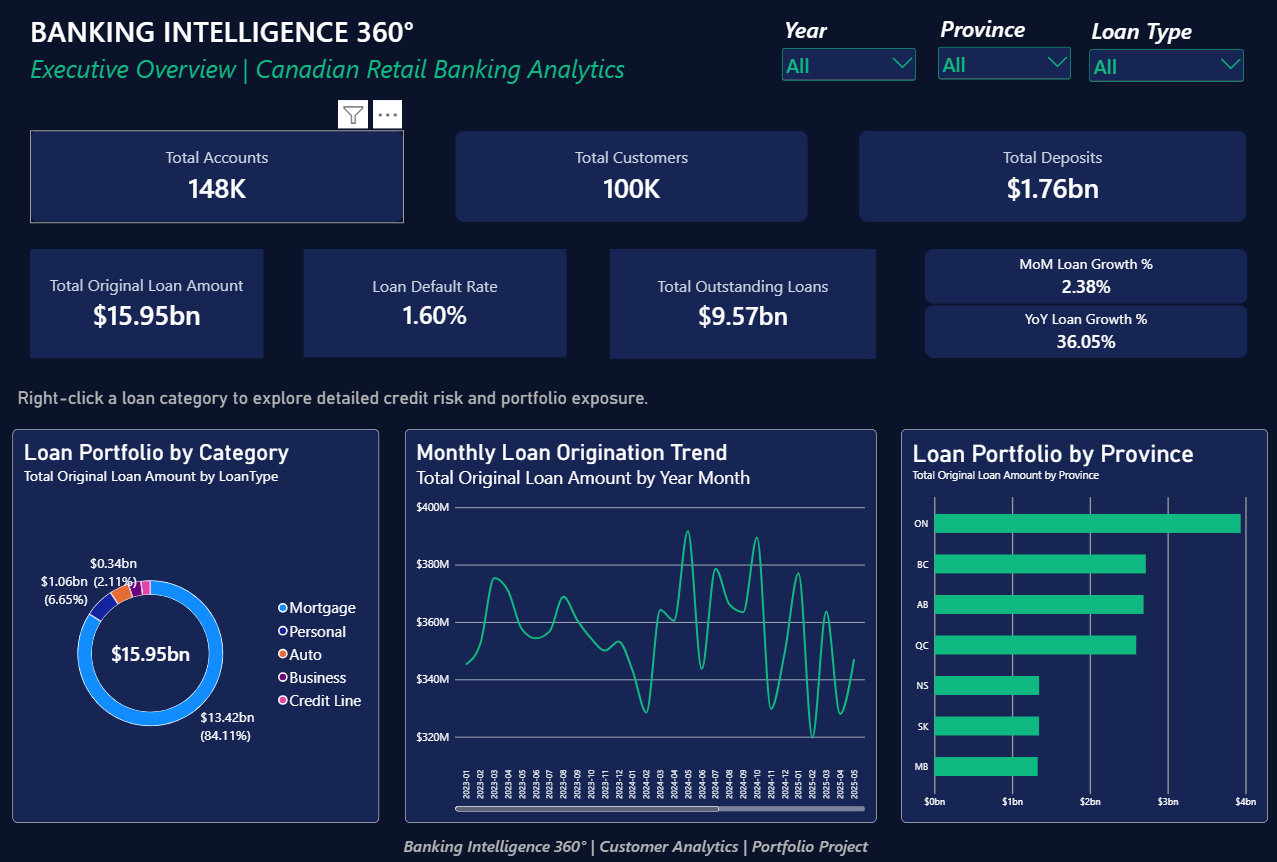

This screenshot's page, from the dashboard's own definition file:
{"tool":"powerbi","page":{"name":"Executive Banking Overview","canvas":[1920,1300],"ordinal":0},"visuals":[{"type":"cardVisual","fields":{"Data":["_Measures (2).Total Customers"]},"box":[683.7,197.4,531,138.6],"z":0},{"type":"cardVisual","fields":{"Data":["_Measures (2).Total Deposits"]},"box":[1289.9,197.4,582.7,138.6],"z":1000},{"type":"cardVisual","fields":{"Data":["_Measures (2).Total Accounts"]},"box":[44.6,197.4,561.5,138.6],"z":2000},{"type":"cardVisual","fields":{"Data":["_Measures (2).Total Original Loan Amount"]},"box":[44.6,375.9,350.1,164.5],"z":3000},{"type":"textbox","title":"BANKING INTELLIGENCE 360°","box":[45.4,18.7,1054.5,178.9],"z":4000},{"type":"donutChart","title":"Loan Portfolio by Category","fields":{"Category":["Loans.LoanType"],"Y":["_Measures (2).Total Original Loan Amount"]},"box":[19.4,644.7,550.2,591.4],"z":5000},{"type":"cardVisual","fields":{"Data":["_Measures (2).Total Outstanding Loans"]},"box":[916.3,375.9,399.4,164.5],"z":6000},{"type":"cardVisual","fields":{"Data":["_Measures (2).Loan Default Rate"]},"box":[455.8,375.9,394.7,162.1],"z":7000},{"type":"clusteredBarChart","title":"Loan Portfolio by Province","fields":{"Category":["Branches.Province"],"Y":["_Measures (2).Total Original Loan Amount"]},"box":[1352.4,644.7,550.2,591.4],"z":8000},{"type":"slicer","fields":{"Values":["Branches.Province"]},"box":[1402.7,21.1,209.1,112.8],"z":9000},{"type":"slicer","fields":{"Values":["Loans.LoanType"]},"box":[1630.6,23.5,242,110.4],"z":10000},{"type":"lineChart","title":"Monthly Loan Origination Trend","fields":{"Category":["DateTable.Year Month"],"Y":["_Measures (2).Total Original Loan Amount"]},"box":[608.3,644.7,707.7,591.4],"z":11000},{"type":"slicer","title":"Year","fields":{"Values":["DateTable.Year"]},"box":[1168.2,21.8,210.9,109.1],"z":12000},{"type":"cardVisual","fields":{"Data":["_Measures (2).MoM Loan Growth %"]},"box":[1388.6,375.9,484,82.2],"z":13000},{"type":"cardVisual","fields":{"Data":["_Measures (2).YoY Loan Growth %"]},"box":[1388.6,460.5,484,79.9],"z":14000},{"type":"textbox","title":"Banking Intelligence 360° | Customer Analytics | Portfolio Project","box":[514.7,1255.2,880.2,44.8],"z":14001},{"type":"textbox","title":"Right-click a loan category to explore detailed credit risk and portfolio exposure.","box":[26.7,584.1,1008.2,94.5],"z":14002}]}

Visuals, with their boxes in screenshot pixels (x1, y1, x2, y2), scaled from the page's 1920x1300 canvas onto the 1277x862 screenshot:
cardVisual - _Measures (2).Total Customers: pyautogui.locateOnScreen(455, 131, 808, 223)
cardVisual - _Measures (2).Total Deposits: pyautogui.locateOnScreen(858, 131, 1245, 223)
cardVisual - _Measures (2).Total Accounts: pyautogui.locateOnScreen(30, 131, 403, 223)
cardVisual - _Measures (2).Total Original Loan Amount: pyautogui.locateOnScreen(30, 249, 263, 358)
"BANKING INTELLIGENCE 360°" textbox: pyautogui.locateOnScreen(30, 12, 732, 131)
"Loan Portfolio by Category" donutChart: pyautogui.locateOnScreen(13, 427, 379, 820)
cardVisual - _Measures (2).Total Outstanding Loans: pyautogui.locateOnScreen(609, 249, 875, 358)
cardVisual - _Measures (2).Loan Default Rate: pyautogui.locateOnScreen(303, 249, 566, 357)
"Loan Portfolio by Province" clusteredBarChart: pyautogui.locateOnScreen(899, 427, 1265, 820)
slicer - Branches.Province: pyautogui.locateOnScreen(933, 14, 1072, 89)
slicer - Loans.LoanType: pyautogui.locateOnScreen(1085, 16, 1245, 89)
"Monthly Loan Origination Trend" lineChart: pyautogui.locateOnScreen(405, 427, 875, 820)
"Year" slicer: pyautogui.locateOnScreen(777, 14, 917, 87)
cardVisual - _Measures (2).MoM Loan Growth %: pyautogui.locateOnScreen(924, 249, 1245, 304)
cardVisual - _Measures (2).YoY Loan Growth %: pyautogui.locateOnScreen(924, 305, 1245, 358)
"Banking Intelligence 360° | Customer Analytics | Portfolio Project" textbox: pyautogui.locateOnScreen(342, 832, 928, 861)
"Right-click a loan category to explore detailed credit risk and portfolio exposure." textbox: pyautogui.locateOnScreen(18, 387, 688, 450)
